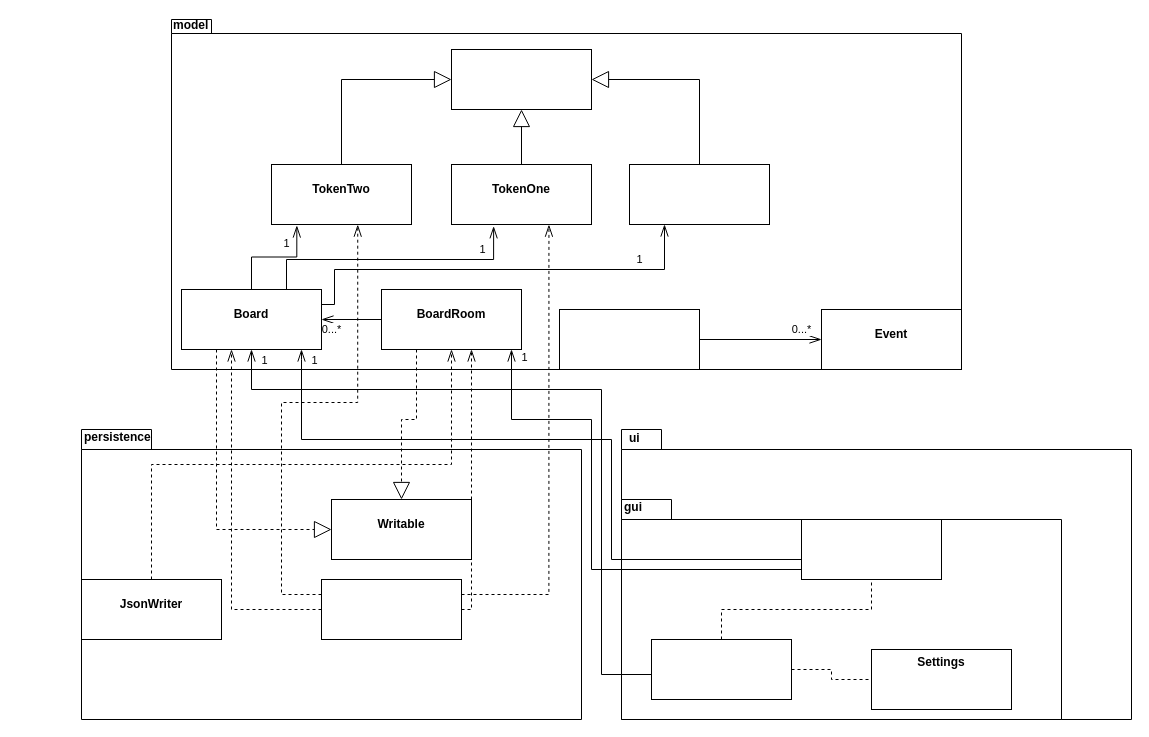
The diagram is 1149 pixels wide and 737 high, and some of its shapes have lost their labels. The centre of each missing label's shape, as x and y in pixels:
"EmptyToken" belongs at pixel 699 194.
"EventLog" belongs at pixel 629 339.
"GameToken" belongs at pixel 521 79.
"JsonReader" belongs at pixel 391 609.
"MainMenuFrame" belongs at pixel 721 669.
"TicTacToeFrame" belongs at pixel 871 549.
